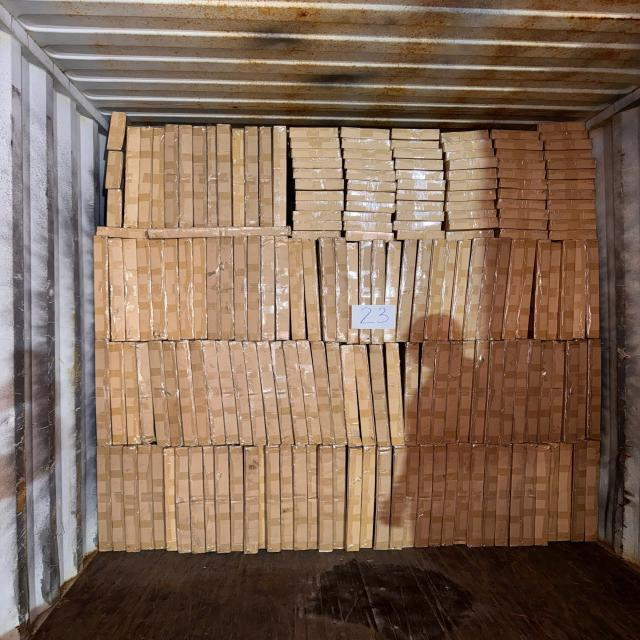Carton: (393, 449, 420, 553), (296, 341, 323, 445), (352, 343, 377, 446), (474, 238, 499, 340), (284, 342, 308, 448), (147, 341, 171, 447), (501, 238, 526, 339), (339, 344, 363, 447), (243, 448, 266, 555), (464, 237, 487, 343), (397, 240, 420, 345), (428, 340, 451, 445), (215, 340, 237, 448), (244, 341, 266, 449), (272, 341, 294, 448), (488, 238, 511, 340), (310, 341, 332, 447), (231, 342, 253, 447), (436, 240, 459, 340), (452, 240, 474, 343), (189, 341, 210, 448), (302, 239, 324, 341), (382, 241, 403, 347), (413, 239, 434, 345), (258, 342, 279, 448), (413, 444, 434, 549), (515, 239, 537, 339), (384, 343, 404, 450), (472, 340, 492, 447), (370, 344, 390, 450), (92, 235, 112, 341), (121, 237, 141, 343), (176, 341, 196, 447), (107, 340, 127, 445), (107, 237, 127, 342), (217, 230, 236, 340), (426, 239, 446, 343), (288, 238, 308, 342), (498, 340, 518, 444), (511, 339, 531, 443), (260, 233, 279, 342), (136, 124, 155, 233), (94, 338, 113, 447), (452, 442, 472, 545), (163, 340, 182, 448), (418, 340, 437, 447), (232, 230, 250, 342), (370, 241, 389, 347), (122, 448, 141, 554), (274, 234, 293, 340), (215, 127, 234, 231), (487, 339, 506, 443), (123, 341, 142, 445), (532, 238, 551, 342), (136, 342, 155, 446), (427, 443, 446, 547), (440, 442, 459, 546), (479, 444, 498, 548), (511, 443, 530, 546), (569, 439, 588, 542), (123, 126, 142, 228), (205, 339, 223, 446), (95, 445, 113, 552), (346, 446, 364, 552), (404, 343, 422, 448), (456, 341, 474, 445), (327, 343, 345, 447), (164, 128, 182, 232), (231, 127, 249, 231), (320, 238, 338, 342), (151, 124, 168, 234), (546, 238, 564, 341), (584, 438, 602, 541), (537, 341, 555, 444), (521, 443, 539, 546), (494, 444, 512, 546), (548, 341, 566, 443), (265, 447, 282, 554), (174, 448, 191, 554), (557, 240, 575, 340), (359, 446, 376, 551), (178, 127, 195, 232), (108, 447, 125, 552), (193, 127, 210, 231), (318, 446, 335, 550), (190, 238, 207, 342), (146, 226, 293, 238), (137, 449, 154, 552), (468, 445, 485, 548), (524, 340, 541, 443), (376, 448, 393, 550), (164, 240, 181, 342), (214, 447, 230, 555), (244, 127, 261, 228), (446, 340, 463, 441), (188, 448, 204, 555), (292, 446, 308, 553), (230, 447, 246, 553), (258, 126, 274, 229), (586, 338, 602, 441), (149, 239, 165, 342), (534, 446, 550, 547), (585, 240, 601, 340), (179, 237, 194, 340), (558, 444, 574, 540), (272, 125, 287, 226), (334, 446, 348, 554), (572, 239, 587, 339), (280, 447, 294, 553), (248, 235, 262, 341), (206, 126, 220, 231), (150, 447, 164, 551), (345, 240, 359, 344), (359, 241, 373, 344), (566, 339, 580, 441), (136, 239, 150, 341), (307, 446, 320, 554), (164, 449, 177, 553), (207, 237, 220, 341), (334, 239, 347, 342), (575, 339, 588, 441), (204, 446, 216, 550), (549, 444, 561, 544), (105, 110, 127, 151), (105, 150, 124, 190), (105, 188, 124, 228), (95, 226, 148, 240), (345, 168, 396, 182), (442, 138, 493, 152), (347, 189, 397, 203), (391, 128, 441, 142), (440, 130, 490, 144), (448, 178, 498, 192), (448, 217, 498, 231), (392, 147, 444, 160), (496, 198, 548, 211), (446, 147, 494, 161), (340, 137, 391, 150), (342, 148, 393, 161), (446, 189, 497, 202), (499, 207, 550, 220), (340, 126, 390, 139), (346, 200, 396, 213), (394, 158, 444, 171), (448, 157, 498, 170), (548, 218, 597, 231), (292, 168, 344, 180), (446, 208, 498, 220), (294, 178, 345, 190), (346, 180, 397, 192), (342, 211, 393, 223), (447, 168, 498, 180), (497, 167, 548, 179), (498, 178, 549, 190), (546, 157, 597, 169), (547, 168, 598, 180), (289, 126, 339, 138), (290, 137, 340, 149), (292, 157, 342, 169), (294, 200, 344, 212), (344, 158, 394, 170), (343, 220, 393, 232), (345, 230, 395, 242), (396, 179, 446, 191), (446, 200, 496, 212), (446, 228, 496, 240), (491, 128, 541, 140), (494, 138, 544, 150), (494, 148, 544, 160), (496, 158, 546, 170), (498, 188, 548, 200), (499, 218, 549, 230), (544, 138, 594, 150), (546, 178, 596, 190), (395, 169, 444, 181), (396, 189, 445, 201), (546, 189, 597, 200), (547, 229, 598, 240), (292, 210, 342, 221), (293, 220, 343, 231), (537, 120, 587, 131), (395, 200, 444, 211), (396, 210, 444, 221), (548, 209, 596, 220), (291, 148, 342, 158), (498, 229, 549, 239), (295, 190, 345, 200), (544, 149, 594, 159), (540, 130, 589, 140), (397, 230, 445, 240), (548, 200, 596, 210), (392, 221, 442, 230), (391, 140, 440, 149), (291, 230, 342, 238)
